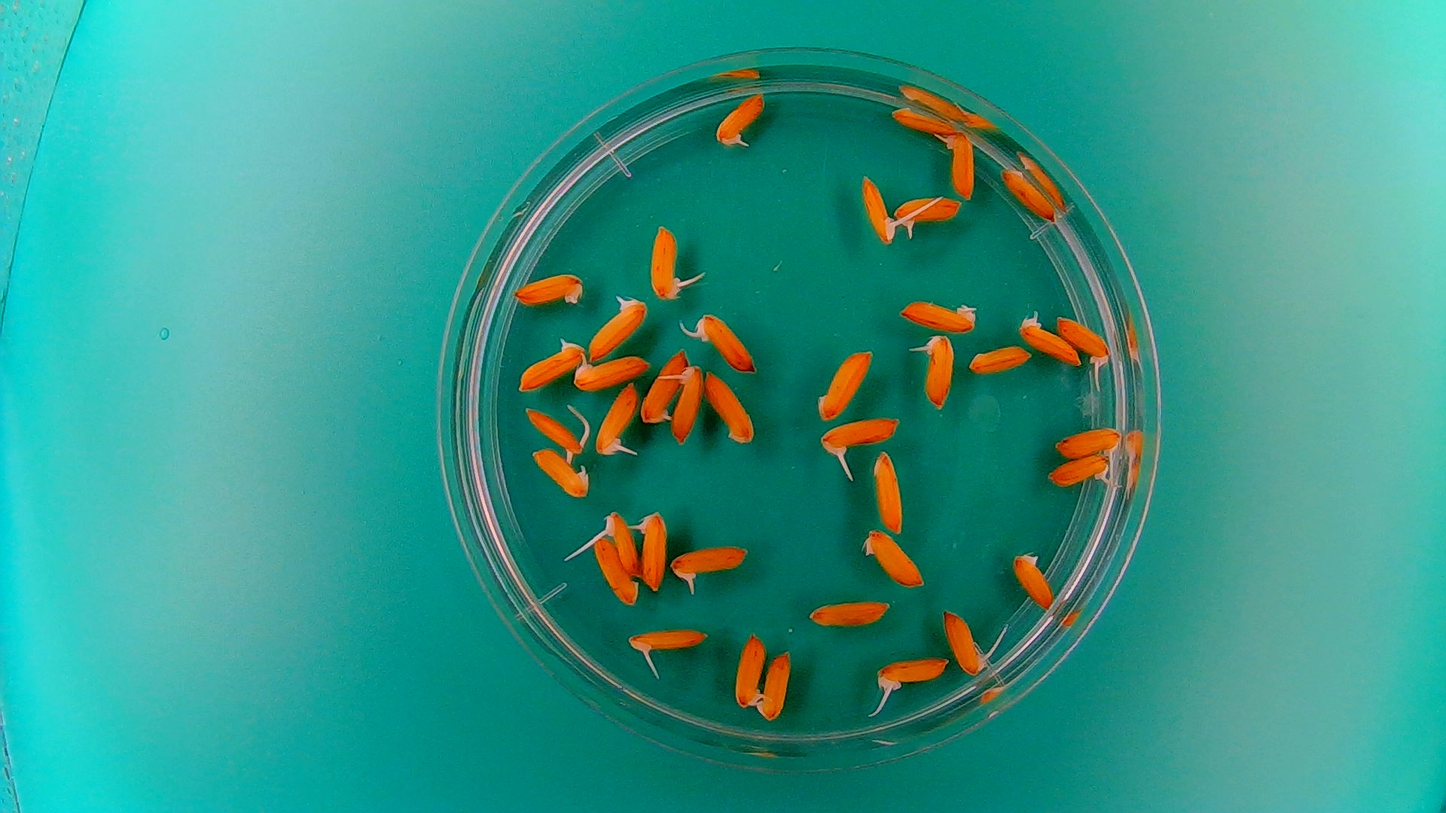no: (700, 368, 760, 451), (814, 343, 875, 422), (860, 526, 926, 588), (586, 534, 639, 606), (998, 163, 1059, 220), (870, 446, 907, 535), (1009, 547, 1057, 610), (807, 595, 892, 629), (513, 268, 587, 307), (756, 647, 792, 723), (1053, 423, 1130, 455), (966, 342, 1033, 376), (890, 104, 960, 136)
yes: (585, 290, 651, 362), (816, 413, 903, 466), (687, 309, 758, 373), (669, 540, 752, 592), (623, 622, 712, 669), (514, 334, 585, 392), (648, 221, 697, 302), (871, 651, 951, 700), (941, 605, 994, 678), (639, 346, 687, 425), (1017, 309, 1081, 367), (594, 381, 640, 458), (911, 330, 955, 410), (523, 405, 587, 459), (1054, 311, 1112, 370), (896, 293, 981, 333), (530, 445, 592, 499), (712, 89, 767, 148), (669, 359, 705, 446), (572, 352, 652, 391), (635, 506, 670, 592), (893, 193, 962, 236), (859, 171, 899, 245), (732, 628, 767, 712), (939, 128, 976, 199), (602, 508, 640, 573), (1047, 452, 1112, 489)
